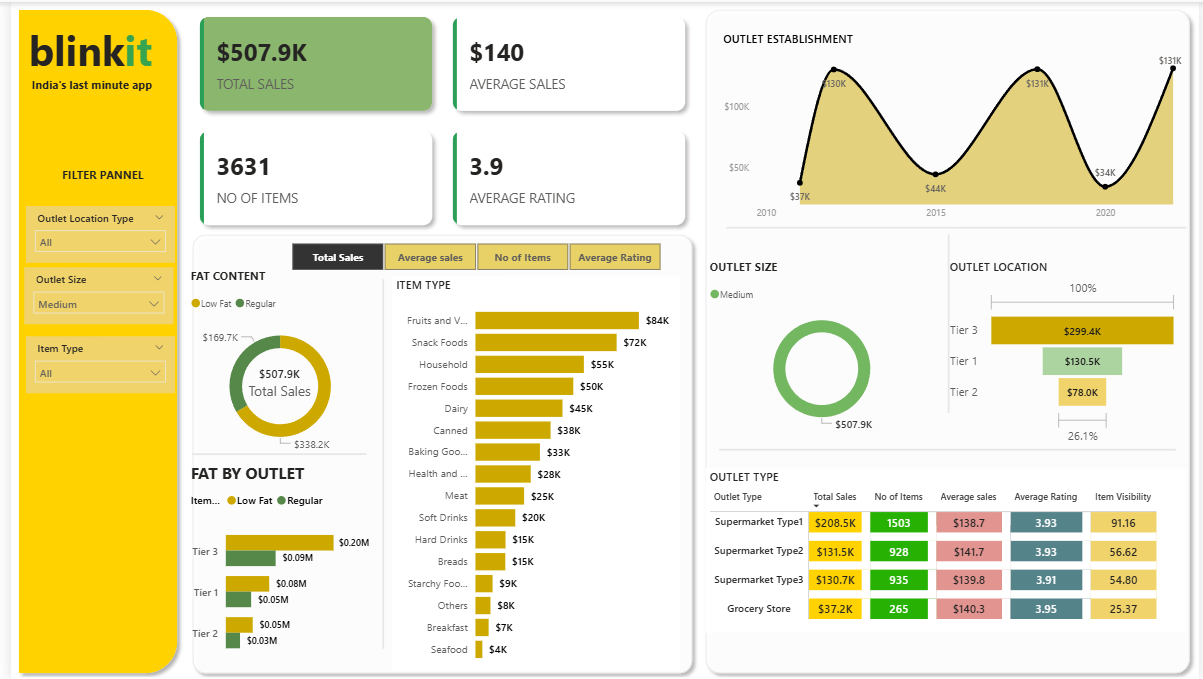

This screenshot's page, from the dashboard's own definition file:
{"tool":"powerbi","page":{"name":"Page 1","canvas":[1400,800],"ordinal":0},"visuals":[{"type":"shape","box":[0,0,205,800],"z":0},{"type":"textbox","box":[15.9,17.7,162.6,129],"z":1000},{"type":"textbox","box":[15.9,83.1,189.1,99],"z":2000},{"type":"cardVisual","fields":{"Data":["BlinkIT Grocery Data.Total Sales","BlinkIT Grocery Data.Average sales","BlinkIT Grocery Data.No of Items","BlinkIT Grocery Data.Average Rating"]},"box":[205,0,606.7,281.7],"z":3000},{"type":"shape","box":[205,265,606.7,535],"z":4000},{"type":"donutChart","title":"FAT CONTENT","fields":{"Y":["BlinkIT Grocery Data.Total Sales"],"Category":["BlinkIT Grocery Data.Item Fat Content"]},"box":[206.7,313.3,220,230],"z":5000},{"type":"slicer","fields":{"Values":["Metrics.Metrics"]},"box":[305,278.3,483.3,45],"z":6000},{"type":"cardVisual","fields":{"Data":["BlinkIT Grocery Data.Total Sales"]},"box":[256.3,406.5,120.2,83.1],"z":7000},{"type":"clusteredBarChart","title":"FAT BY OUTLET","fields":{"Y":["BlinkIT Grocery Data.Total Sales"],"Category":["BlinkIT Grocery Data.Outlet Location Type"],"Series":["BlinkIT Grocery Data.Item Fat Content"]},"box":[206.7,543.3,220,245],"z":8000},{"type":"shape","box":[213.3,516.7,205,33.3],"z":9000},{"type":"shape","box":[413.3,326.7,50,435],"z":10000},{"type":"barChart","title":"ITEM TYPE","fields":{"Y":["BlinkIT Grocery Data.Total Sales"],"Category":["BlinkIT Grocery Data.Item Type"]},"box":[448.9,323.4,339.3,464.8],"z":11000},{"type":"shape","box":[810,0,588.3,800],"z":12000},{"type":"lineChart","title":"OUTLET ESTABLISHMENT","fields":{"Y":["BlinkIT Grocery Data.Total Sales"],"Category":["BlinkIT Grocery Data.Outlet Establishment Year"]},"box":[833.3,33.3,551.7,231.7],"z":13000},{"type":"shape","box":[843.3,248.3,541.7,33.3],"z":14000},{"type":"donutChart","title":"OUTLET SIZE","fields":{"Y":["BlinkIT Grocery Data.Total Sales"],"Category":["BlinkIT Grocery Data.Outlet Size"]},"box":[818.3,301.7,273.3,210],"z":15000},{"type":"shape","box":[1091.7,273.3,25,210],"z":16000},{"type":"funnel","title":"OUTLET LOCATION","fields":{"Category":["BlinkIT Grocery Data.Outlet Location Type"],"Y":["BlinkIT Grocery Data.Total Sales"]},"box":[1101.7,301.7,278.3,223.3],"z":17000},{"type":"pivotTable","title":"OUTLET TYPE","fields":{"Rows":["BlinkIT Grocery Data.Outlet Type"],"Values":["BlinkIT Grocery Data.Total Sales","BlinkIT Grocery Data.No of Items","BlinkIT Grocery Data.Average sales","BlinkIT Grocery Data.Average Rating","Sum(BlinkIT Grocery Data.Item Visibility)"]},"box":[818.3,550,566.7,193.3],"z":18000},{"type":"shape","box":[833.3,511.7,538.3,30],"z":19000},{"type":"slicer","fields":{"Values":["BlinkIT Grocery Data.Outlet Location Type"]},"box":[18.3,240,175,66.7],"z":20000},{"type":"slicer","fields":{"Values":["BlinkIT Grocery Data.Outlet Size"]},"box":[16.7,313.3,175,66.7],"z":21000},{"type":"slicer","fields":{"Values":["BlinkIT Grocery Data.Item Type"]},"box":[18.3,395,175,66.7],"z":22000},{"type":"textbox","box":[11.7,188.3,188.3,51.7],"z":23000}]}

Visuals, with their boxes in screenshot pixels (x1, y1, x2, y2), scaled from the page's 1400x800 canvas onto the 1203x679 screenshot:
shape: 0 0 176 678
textbox: 14 15 153 125
textbox: 14 71 176 155
cardVisual - BlinkIT Grocery Data.Total Sales x BlinkIT Grocery Data.Average sales: 176 0 697 239
shape: 176 225 697 678
"FAT CONTENT" donutChart: 178 266 367 461
slicer - Metrics.Metrics: 262 236 677 274
cardVisual - BlinkIT Grocery Data.Total Sales: 220 345 324 416
"FAT BY OUTLET" clusteredBarChart: 178 461 367 669
shape: 183 439 359 467
shape: 355 277 398 646
"ITEM TYPE" barChart: 386 274 677 669
shape: 696 0 1202 678
"OUTLET ESTABLISHMENT" lineChart: 716 28 1190 225
shape: 725 211 1190 239
"OUTLET SIZE" donutChart: 703 256 938 434
shape: 938 232 960 410
"OUTLET LOCATION" funnel: 947 256 1186 446
"OUTLET TYPE" pivotTable: 703 467 1190 631
shape: 716 434 1179 460
slicer - BlinkIT Grocery Data.Outlet Location Type: 16 204 166 260
slicer - BlinkIT Grocery Data.Outlet Size: 14 266 165 323
slicer - BlinkIT Grocery Data.Item Type: 16 335 166 392
textbox: 10 160 172 204
